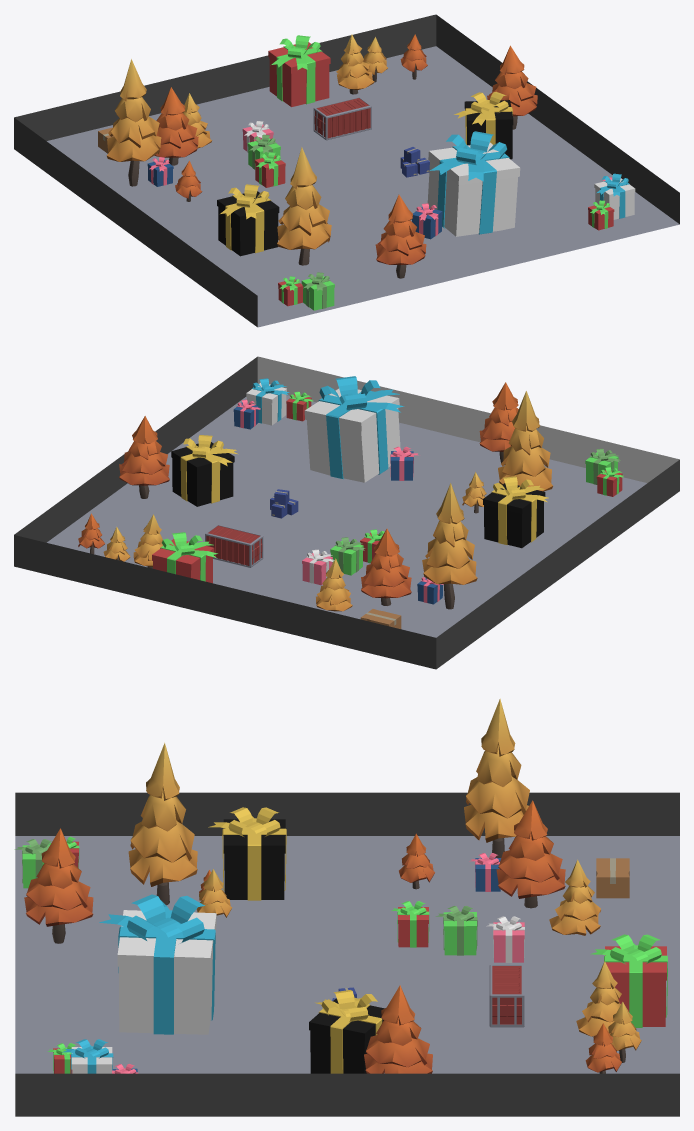
File: map.glb
The picture shows the model from 3 angles, top to bottom: view 1: azimuth 30°, elevation 25°; view 2: azimuth 150°, elevation 25°; view 3: azimuth 270°, elevation 25°; orthographic projection. The views are drawn at different scales.
Parts seen in each view (by area): view 1: Plane, Present.009, Present.014, tree_pine_yellow_large.001, Present.013, tree_pine_yellow_large, tree_pine_orange_large.001, Present.006, tree_pine_orange_large, Container_Long, tree_pine_orange_large.002, Present.005 (+13 smaller); view 2: Plane, Present.009, Present.006, tree_pine_yellow_large.001, Present.013, tree_pine_yellow_large, tree_pine_orange_large.002, tree_pine_orange_large, Present.014, Container_Long, tree_pine_orange_large.001, Present.005 (+14 smaller); view 3: Plane, Present.009, tree_pine_yellow_large, tree_pine_yellow_large.001, Present.013, Present.006, Present.014, tree_pine_orange_large.001, tree_pine_orange_large, tree_pine_orange_large.002, Container_Long, tree_pine_yellow_medium (+12 smaller).
Part boxes in pixels (bbox=[...]): Plane: bbox=[14, 14, 679, 327]; Present.009: bbox=[427, 131, 520, 236]; Present.014: bbox=[268, 35, 330, 107]; tree_pine_yellow_large.001: bbox=[106, 59, 161, 186]; Present.013: bbox=[217, 184, 279, 256]; tree_pine_yellow_large: bbox=[277, 147, 331, 265]; tree_pine_orange_large.001: bbox=[375, 194, 426, 278]; Present.006: bbox=[454, 91, 513, 159]; tree_pine_orange_large: bbox=[154, 87, 198, 165]; Container_Long: bbox=[313, 96, 371, 140]; tree_pine_orange_large.002: bbox=[487, 45, 537, 129]; Present.005: bbox=[594, 173, 635, 219]; Plane: bbox=[14, 356, 679, 669]; Present.009: bbox=[304, 376, 404, 482]; Present.006: bbox=[171, 435, 238, 506]; tree_pine_yellow_large.001: bbox=[422, 483, 477, 609]; Present.013: bbox=[483, 476, 548, 548]; tree_pine_yellow_large: bbox=[498, 391, 552, 491]; tree_pine_orange_large.002: bbox=[119, 416, 169, 498]; tree_pine_orange_large: bbox=[361, 528, 411, 605]; Present.014: bbox=[152, 532, 217, 583]; Container_Long: bbox=[205, 524, 263, 567]; tree_pine_orange_large.001: bbox=[479, 382, 518, 465]; Present.005: bbox=[246, 378, 289, 425]; Plane: bbox=[15, 792, 679, 1116]; Present.009: bbox=[99, 894, 216, 1034]; tree_pine_yellow_large: bbox=[128, 742, 197, 905]; tree_pine_yellow_large.001: bbox=[464, 698, 529, 857]; Present.013: bbox=[208, 807, 286, 900]; Present.006: bbox=[309, 990, 384, 1073]; Present.014: bbox=[590, 934, 667, 1027]; tree_pine_orange_large.001: bbox=[24, 828, 93, 943]; tree_pine_orange_large: bbox=[496, 800, 565, 908]; tree_pine_orange_large.002: bbox=[364, 985, 432, 1073]; Container_Long: bbox=[489, 964, 524, 1027]; tree_pine_yellow_medium: bbox=[549, 859, 600, 935].
Bounding box in the file's own units: 39.88 × 12.73 × 39.96.
9 materials, 3 textured.
